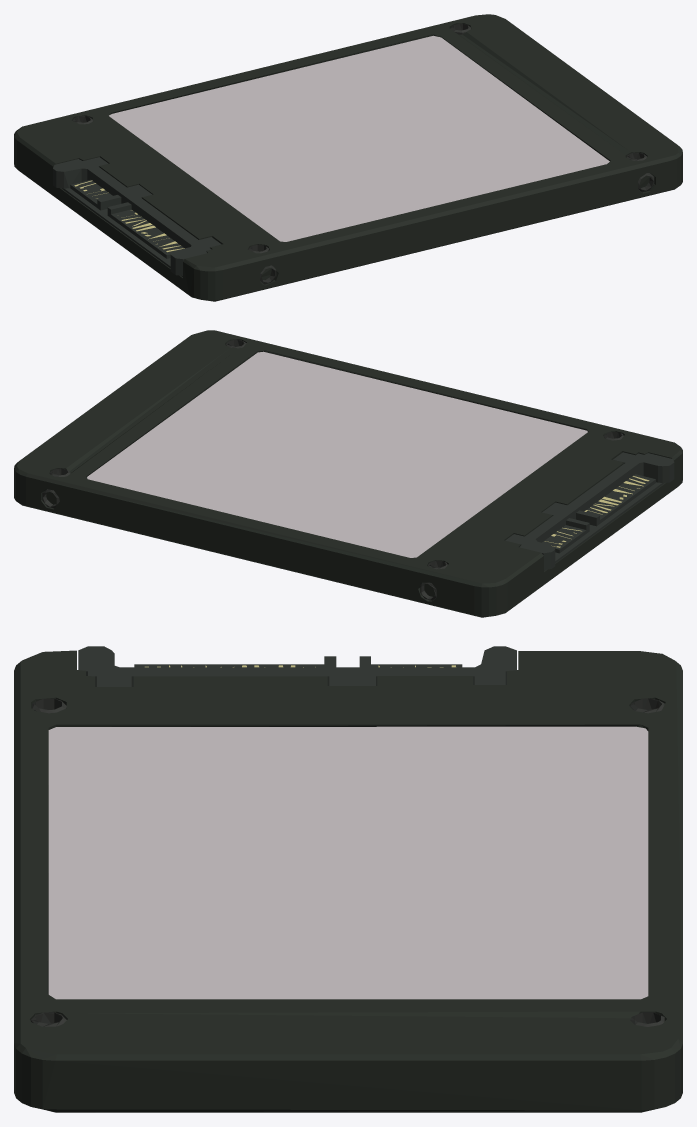
Rendered from ssd_25-lod1.glb.
3 views of the same model, one above another, from view 1: azimuth 30°, elevation 25°; view 2: azimuth 150°, elevation 25°; view 3: azimuth 270°, elevation 25° (orthographic). The views are drawn at different scales.
Parts seen in each view (by area): view 1: Object_3; view 2: Object_3; view 3: Object_3.
Part boxes in pixels (x1,y1,x2,y2): Object_3: (14, 14, 682, 301); Object_3: (14, 330, 682, 617); Object_3: (14, 646, 682, 1112).
Size of the model in its own units: 0.1 by 0.00673 by 0.0688.
1 material, 1 textured.
